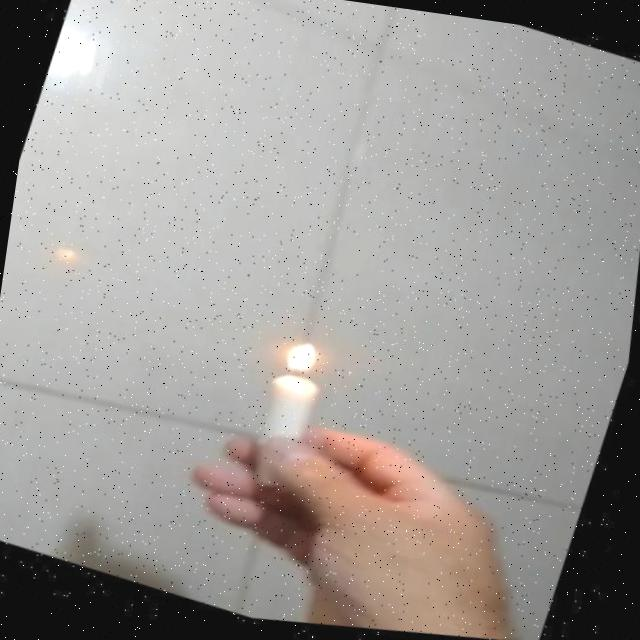fire: (271, 334, 329, 390)
